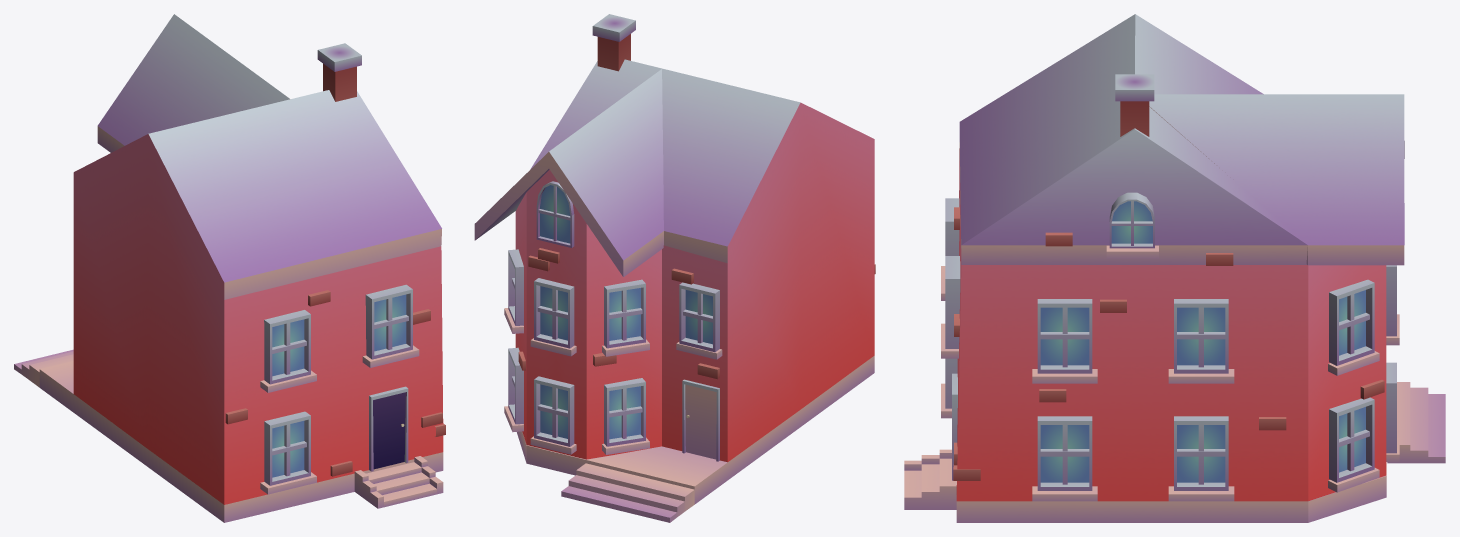
Rendered from SM_House_L_01.fbx.
3 renders of one model, left to right at view 1: azimuth 30°, elevation 25°; view 2: azimuth 150°, elevation 25°; view 3: azimuth 270°, elevation 25°, orthographic. The views are drawn at different scales.
Visible parts, largest first — view 1: SM_House_L_01; view 2: SM_House_L_01; view 3: SM_House_L_01.
Part boxes in pixels (<box>): SM_House_L_01: <box>14,14,445,522</box>; SM_House_L_01: <box>474,14,875,522</box>; SM_House_L_01: <box>904,14,1445,522</box>.
Size of the model in its own units: 6.99 by 12.22 by 10.61.
